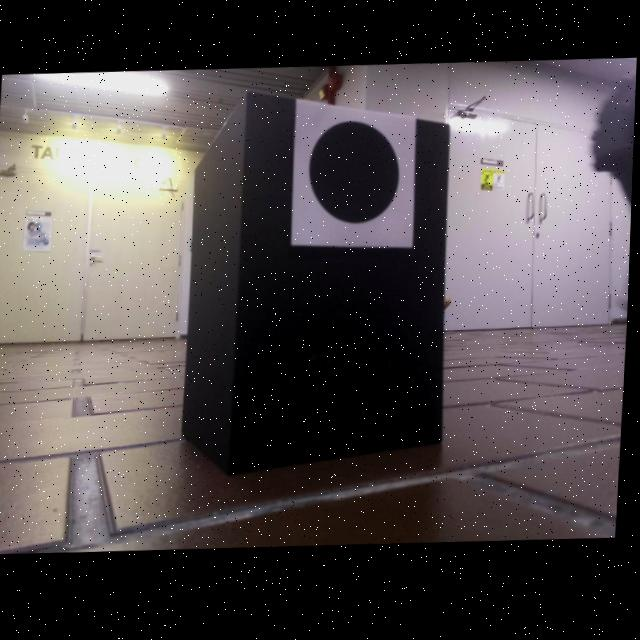CIRCLE: (308, 122, 405, 230)
